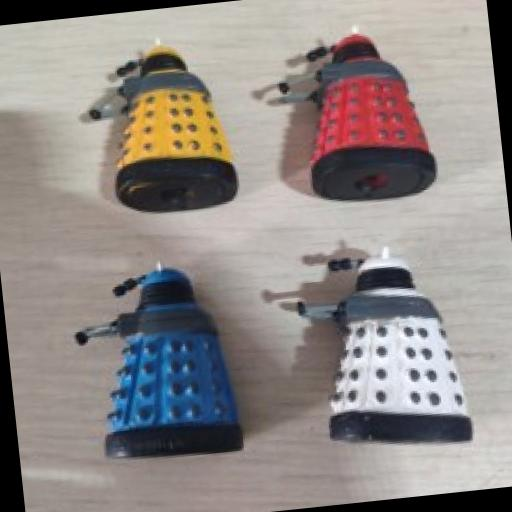dalek: (286, 239, 474, 457), (69, 256, 246, 466), (272, 25, 442, 213), (80, 36, 238, 218)
